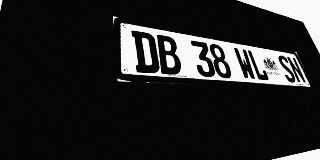3: (190, 40, 217, 78)
8: (207, 43, 233, 79)
B: (155, 34, 183, 75)
D: (131, 30, 161, 74)
L: (246, 50, 270, 81)
N: (286, 56, 307, 83)
S: (276, 54, 298, 83)
W: (233, 47, 257, 80)
